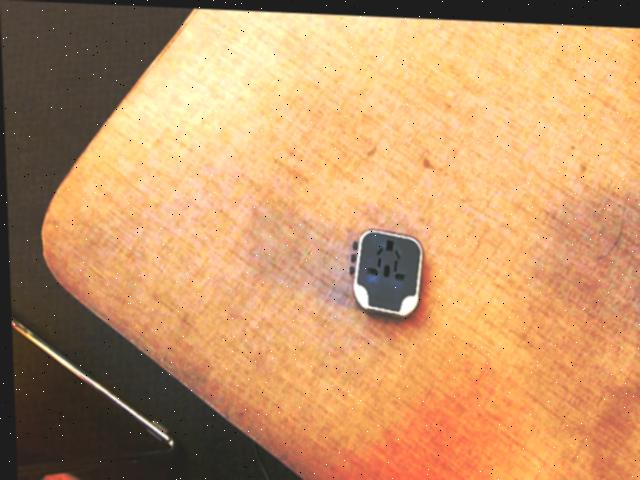adapter: (345, 225, 422, 315)
